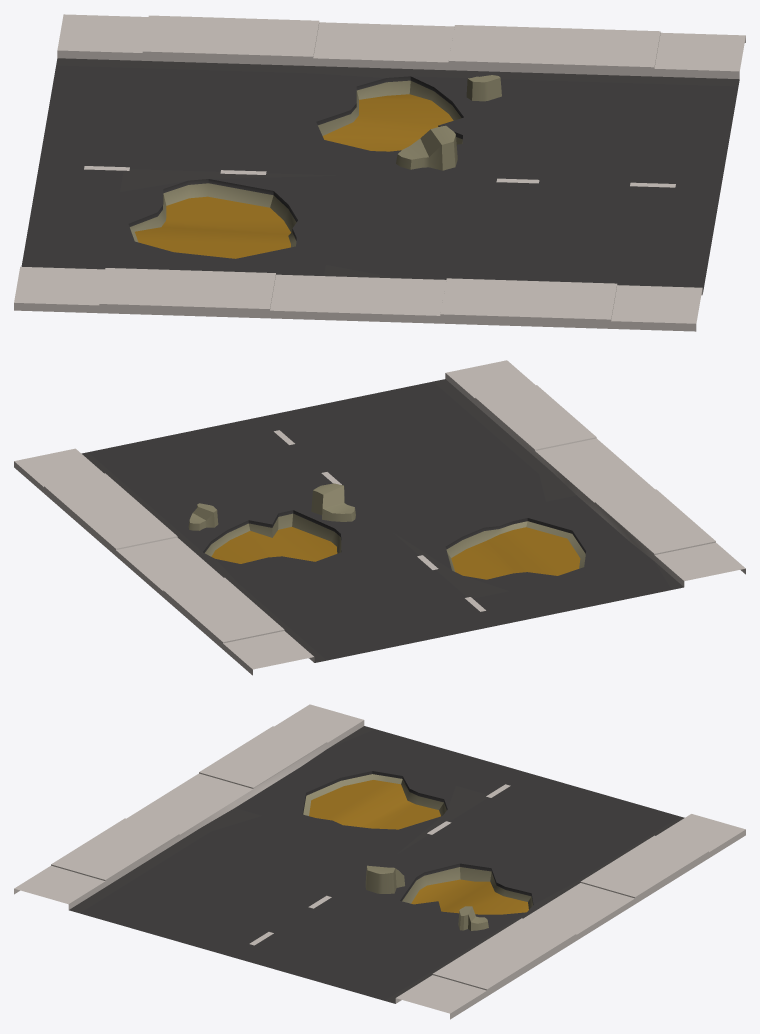
The model's file is street_straight_crack2_lev1.glb.
3 views of the same model, one above another, from view 1: azimuth 30°, elevation 25°; view 2: azimuth 150°, elevation 25°; view 3: azimuth 270°, elevation 25° (orthographic). The views are drawn at different scales.
Parts seen in each view (by area): view 1: street_straight_crack2_lev1; view 2: street_straight_crack2_lev1; view 3: street_straight_crack2_lev1.
Boxes of the visible parts, x1,y1,x2,y2 form: street_straight_crack2_lev1: (14,14,745,331); street_straight_crack2_lev1: (14,360,745,675); street_straight_crack2_lev1: (14,704,745,1019).
Bounding box in the file's own units: 6.08 × 0.3174 × 6.08.
Materials: 1 (1 with a texture image).
